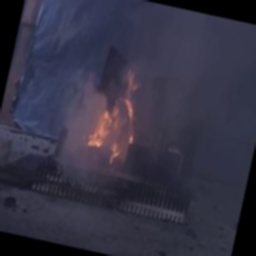fire: (80, 79, 153, 176)
